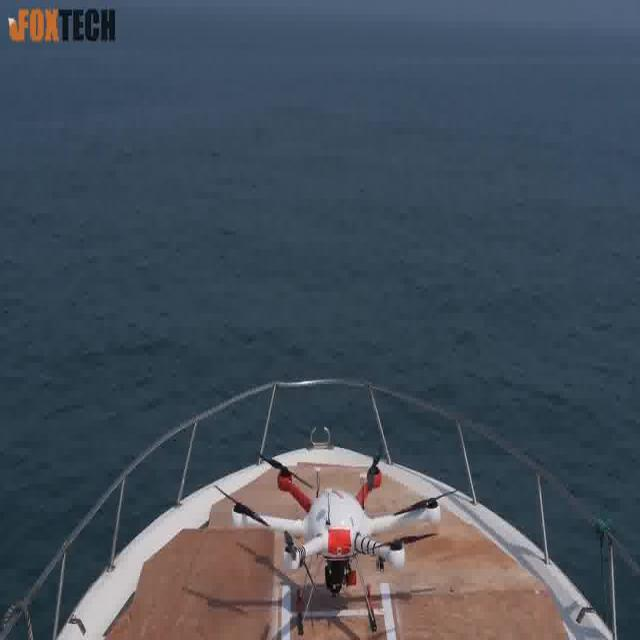drone: (217, 444, 455, 639)
